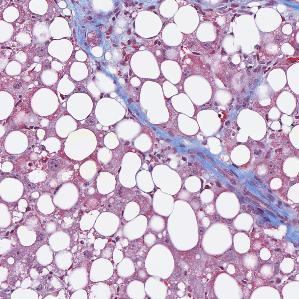fibrosis: (181, 142, 274, 199), (74, 12, 136, 64)
